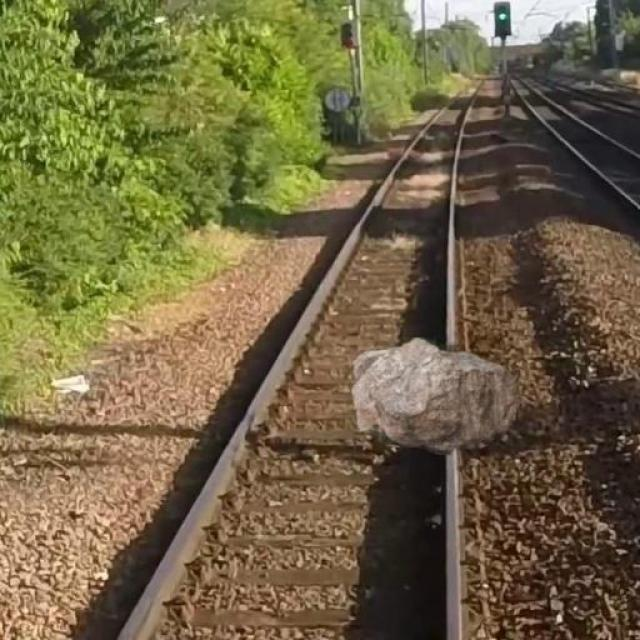Stone: (349, 335, 528, 458)
